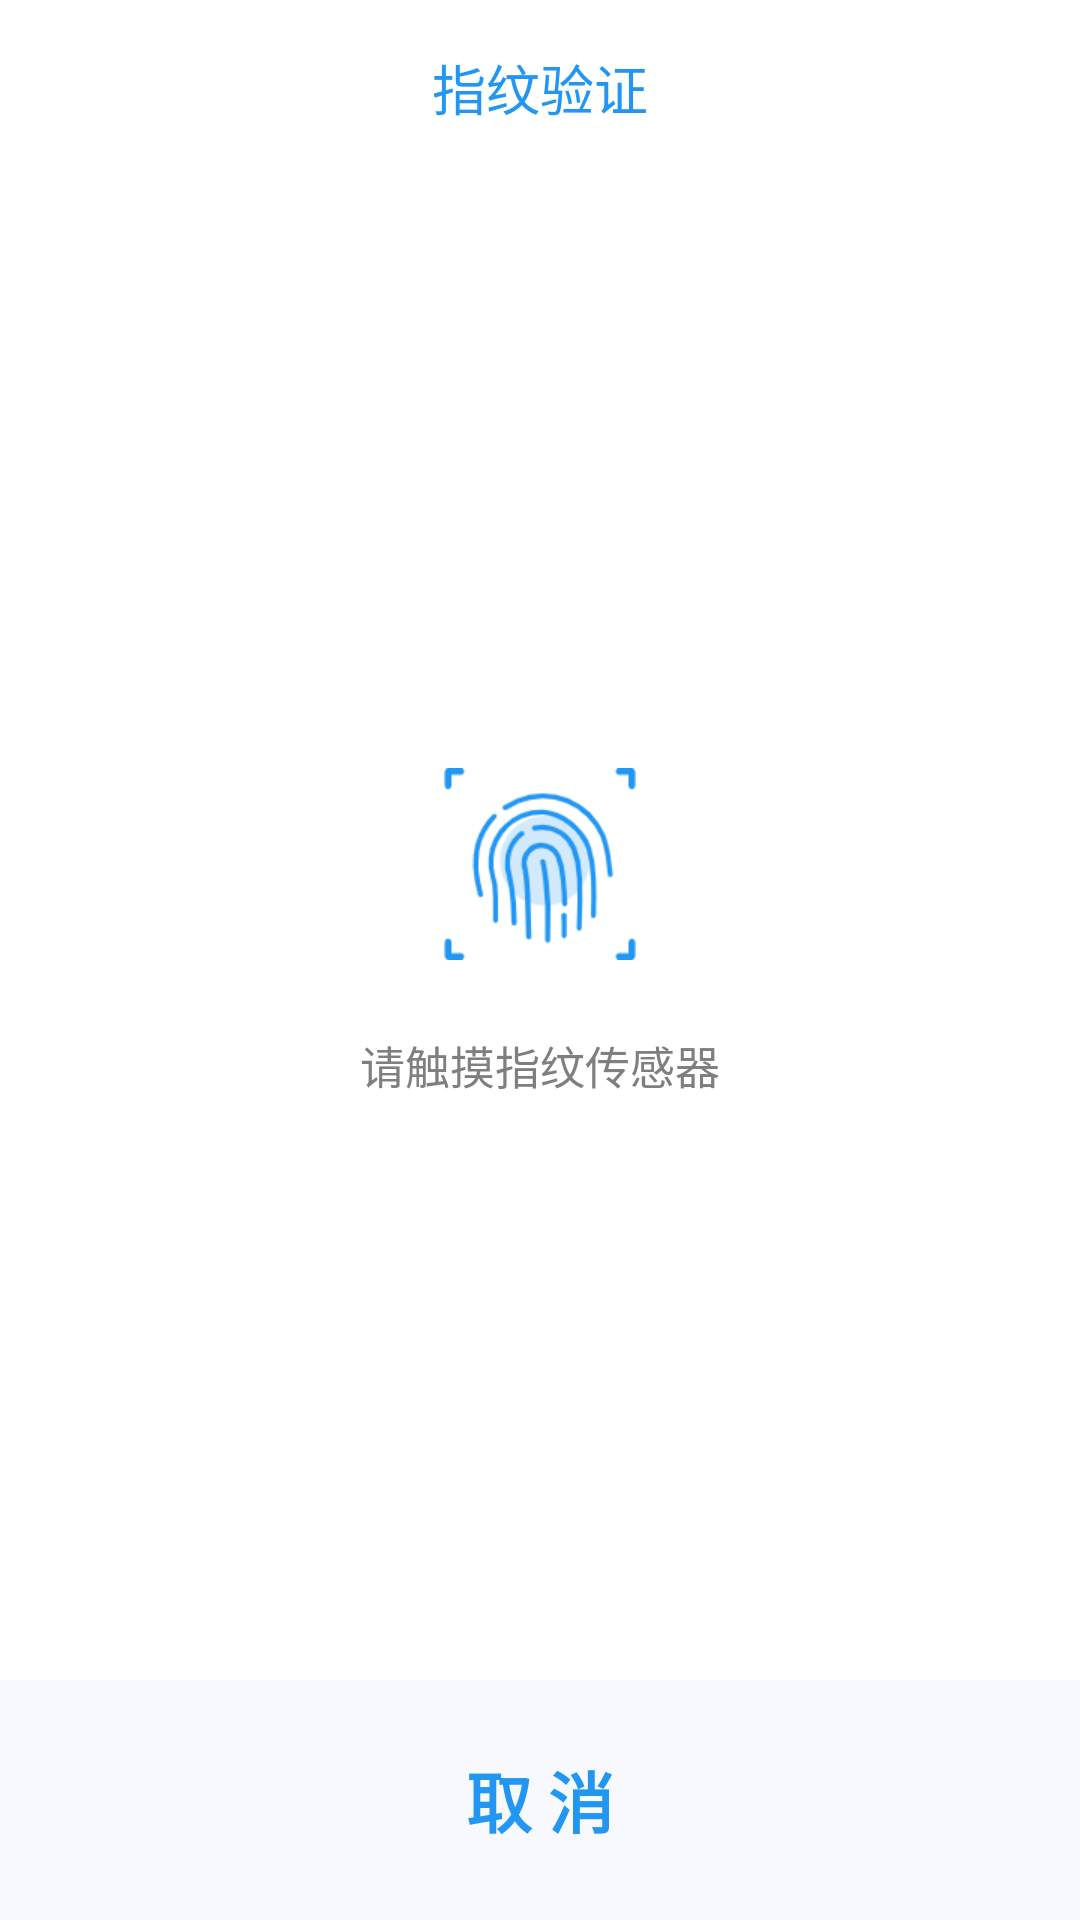

Named icons in this screenshot (1080 × 1920) and their bounding boxes, (x1, y1, x2, y2):
fingerprint: (444, 768, 636, 960)
